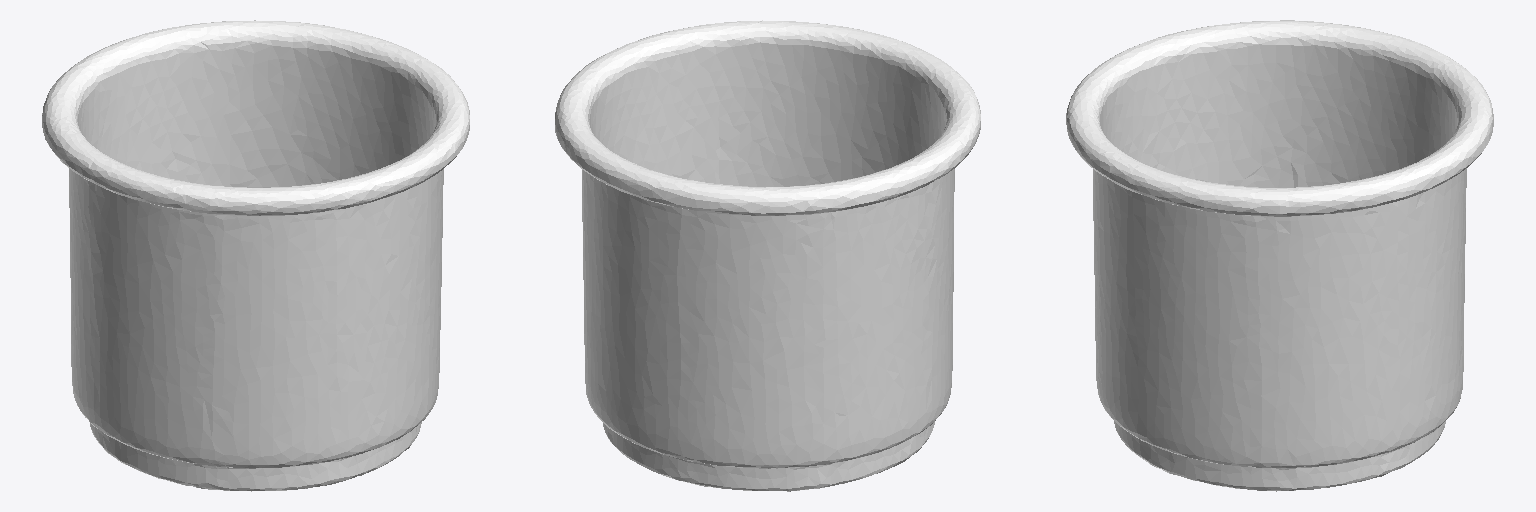
URDF robot description (065-c_cups):
<robot name="065-c_cups">
	<link name="_name">
		<visual>
			<origin xyz="0.1447497482279456 0.6461685625471408 -0.31162156357884613" rpy="0 0 0" />
			<geometry>
				<mesh filename="065-c_cups/google_16k/textured.obj" scale="10 10 10" />
			</geometry>
			<material name="texture">
				<color rgba="1.0 1.0 1.0 1.0" />
			</material>
		</visual>
		<collision>
			<geometry>
				<mesh filename="065-c_cups/google_16k/textured_vhacd.obj" scale="10 10 10" />
			</geometry>
		<origin xyz="0.1447497482279456 0.6461685625471408 -0.31162156357884613" rpy="0 0 0" /></collision>
		<inertial>
			<mass value="1.0" />
			<inertia ixx="1.0" ixy="0.0" ixz="0.0" iyy="1.0" iyz="0.0" izz="1.0" />
		</inertial>
	</link>
</robot>

--- Facts derived from the render (not from the file) ---
Views: 3 orthographic renders of the robot side by side, from view 1: azimuth 30°, elevation 25°; view 2: azimuth 150°, elevation 25°; view 3: azimuth 270°, elevation 25°.
Model 065-c_cups with 1 links and 0 joints (none), rooted at _name, posed every joint at zero.
Visible links, largest first — view 1: _name; view 2: _name; view 3: _name.
Link boxes in pixels (x1,y1,x2,y2): _name: [42, 20, 469, 491]; _name: [555, 20, 980, 491]; _name: [1066, 20, 1493, 491].
Size in the robot's own frame: 0.915 by 0.9162 by 0.7506 metres.
Meshes: 1 distinct files referenced, 1 mesh visuals loaded (1 OBJ).